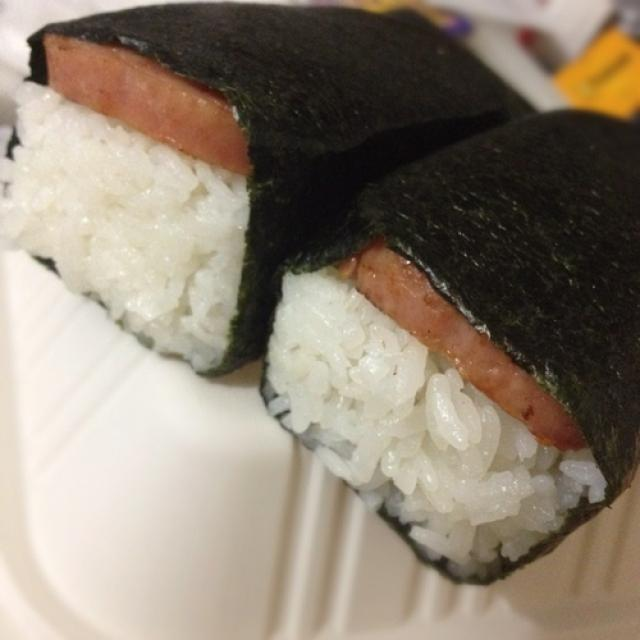寿司卷物: (8, 10, 631, 586)
